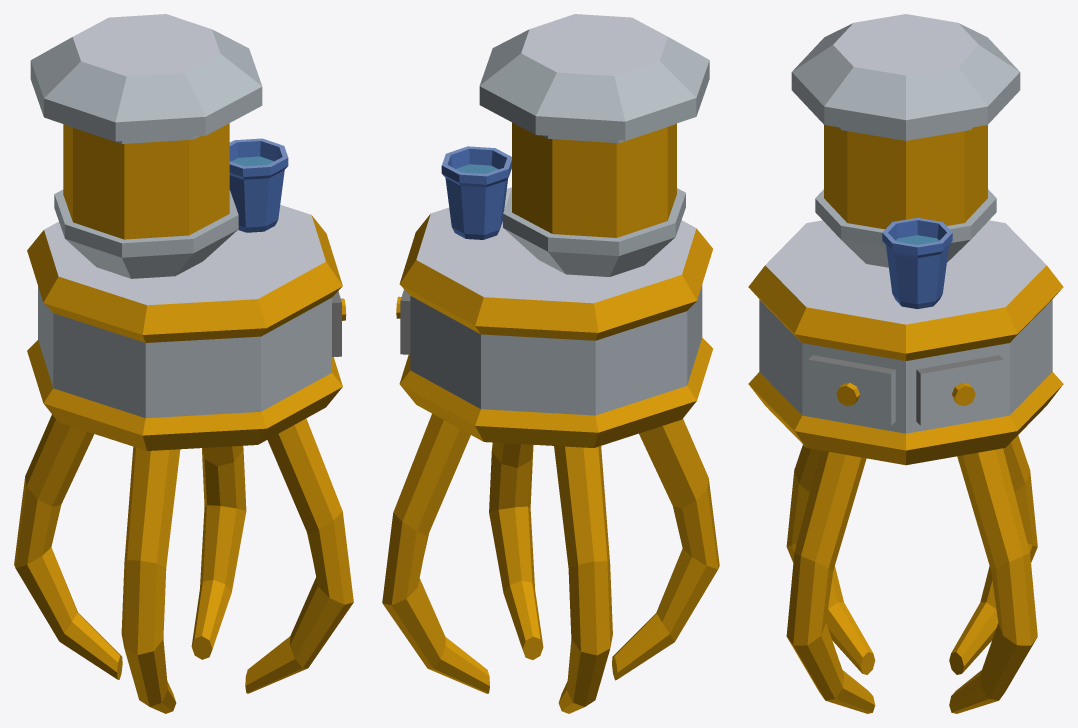
The model's file is Bedside_table.fbx.
The picture shows the model from 3 angles, left to right: view 1: azimuth 30°, elevation 25°; view 2: azimuth 150°, elevation 25°; view 3: azimuth 270°, elevation 25°; orthographic projection. The views are drawn at different scales.
Visible parts, largest first — view 1: Bedside_table; view 2: Bedside_table; view 3: Bedside_table.
Part boxes in pixels (x1,y1,x2,y2): Bedside_table: [14, 14, 353, 713]; Bedside_table: [382, 14, 719, 713]; Bedside_table: [748, 14, 1063, 713].
Bounding box in the file's own units: 55.78 × 123 × 55.78.
